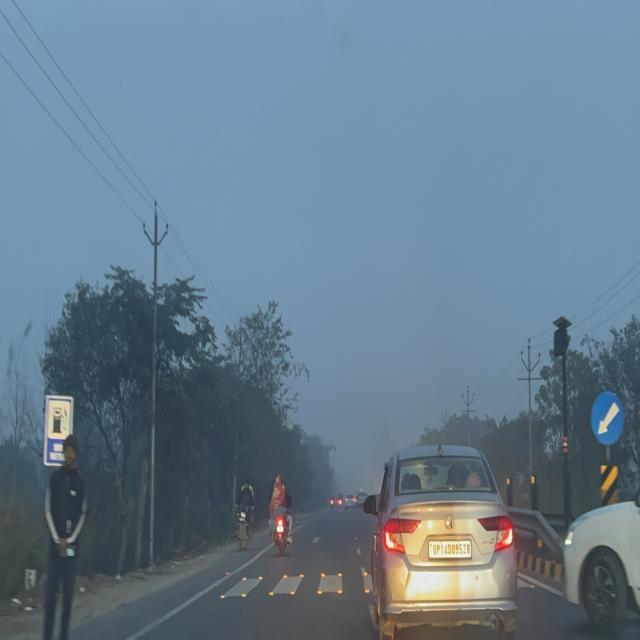INFORMATION: (43, 396, 73, 467)
KEEP_LEFT: (591, 391, 625, 447)
